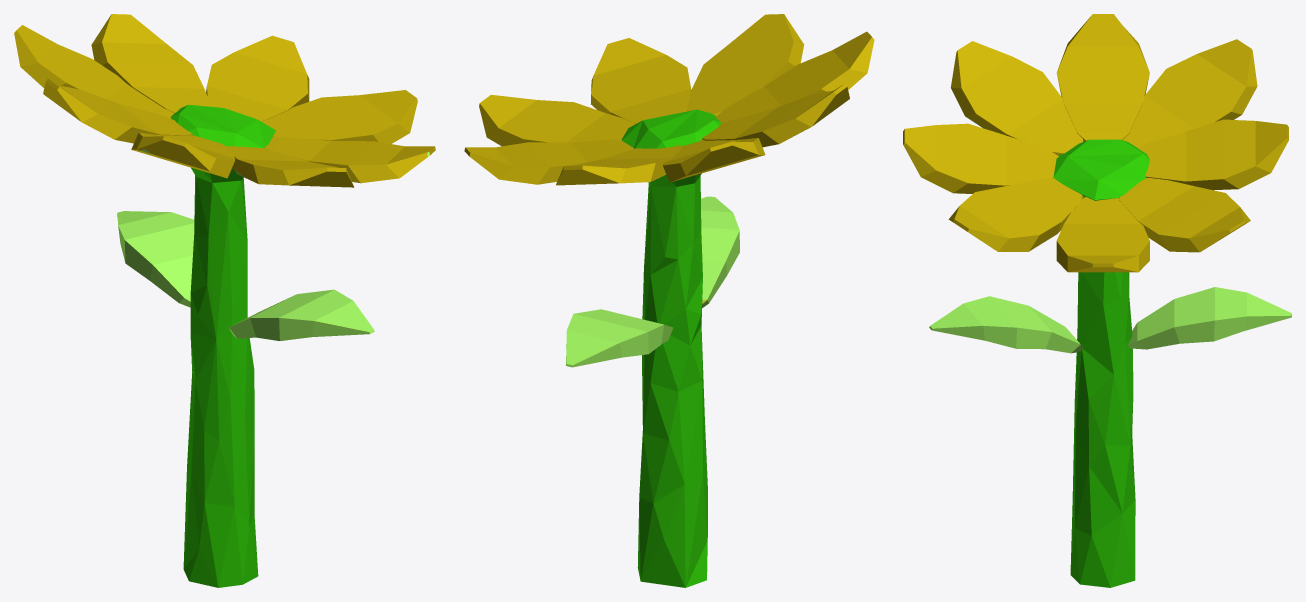
The model's file is Flower.fbx.
3 renders of one model, left to right at view 1: azimuth 30°, elevation 25°; view 2: azimuth 150°, elevation 25°; view 3: azimuth 270°, elevation 25°, orthographic. The views are drawn at different scales.
Parts seen in each view (by area): view 1: Stem, Stem.001; view 2: Stem, Stem.001; view 3: Stem, Stem.001.
Boxes of the visible parts, <box> form: Stem: <box>14,14,435,340</box>; Stem.001: <box>170,104,275,587</box>; Stem: <box>464,14,874,367</box>; Stem.001: <box>621,109,721,587</box>; Stem: <box>903,14,1291,353</box>; Stem.001: <box>1053,139,1149,587</box>.
Bounding box in the file's own units: 18.61 × 25.62 × 18.2.
